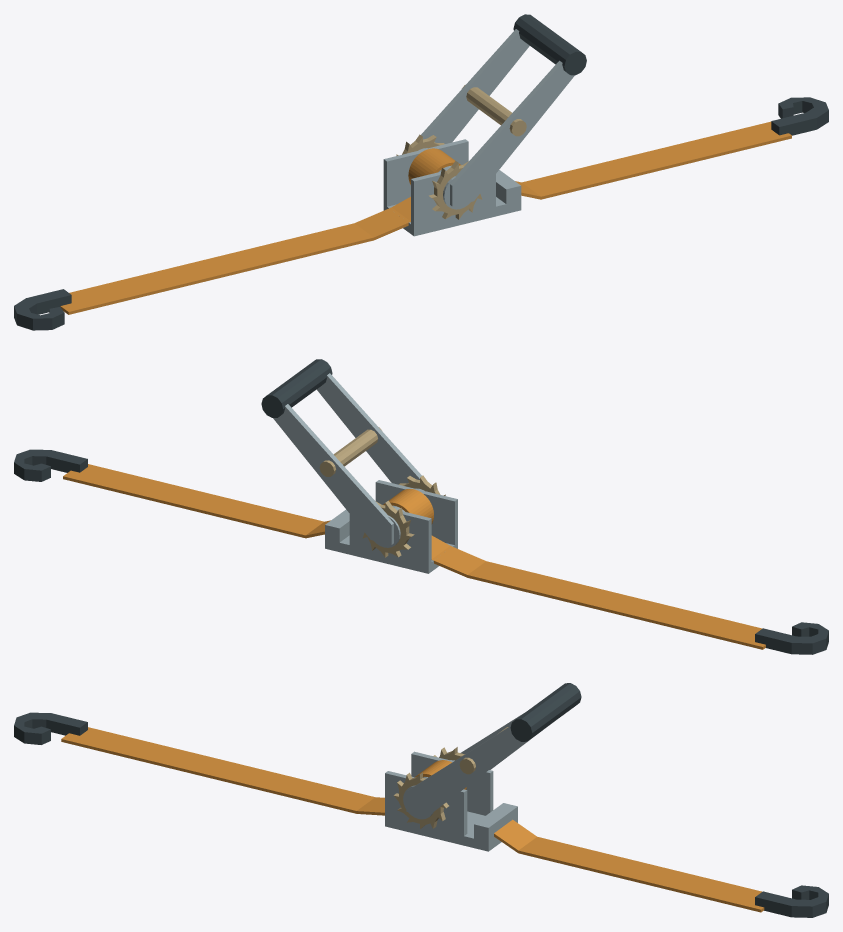
The picture shows the model from 3 angles, top to bottom: view 1: azimuth 30°, elevation 25°; view 2: azimuth 150°, elevation 25°; view 3: azimuth 330°, elevation 25°; orthographic projection. The views are drawn at different scales.
Parts seen in each view (by area): view 1: WholeContinuousLongStrapAndShallowSpiral, WholeOpposingShortStrap, WholeLowOpenBuckleChassis, WholeRaisedLeverCheekNear, WholeRaisedLeverCheekFar, WholeTopLeverGrip, WholeLeftBluntOpenHook, WholeRightBluntOpenHook, WholeFixedReleaseCrossbar, WholeSideToothDiskNear; view 2: WholeContinuousLongStrapAndShallowSpiral, WholeOpposingShortStrap, WholeLowOpenBuckleChassis, WholeRaisedLeverCheekFar, WholeRaisedLeverCheekNear, WholeTopLeverGrip, WholeLeftBluntOpenHook, WholeRightBluntOpenHook, WholeFixedReleaseCrossbar, WholeSideToothDiskFar; view 3: WholeContinuousLongStrapAndShallowSpiral, WholeOpposingShortStrap, WholeLowOpenBuckleChassis, WholeRaisedLeverCheekNear, WholeTopLeverGrip, WholeRightBluntOpenHook, WholeLeftBluntOpenHook, WholeSideToothDiskNear.
Boxes of the visible parts, x1,y1,x2,y2 form: WholeContinuousLongStrapAndShallowSpiral: (60, 148, 460, 314); WholeOpposingShortStrap: (515, 121, 791, 199); WholeLowOpenBuckleChassis: (383, 139, 521, 236); WholeRaisedLeverCheekNear: (450, 60, 574, 206); WholeRaisedLeverCheekFar: (421, 29, 529, 143); WholeTopLeverGrip: (513, 14, 586, 75); WholeLeftBluntOpenHook: (14, 289, 71, 330); WholeRightBluntOpenHook: (771, 97, 828, 135); WholeFixedReleaseCrossbar: (462, 85, 526, 136); WholeSideToothDiskNear: (429, 160, 482, 219); WholeContinuousLongStrapAndShallowSpiral: (383, 489, 765, 649); WholeOpposingShortStrap: (63, 464, 330, 538); WholeLowOpenBuckleChassis: (325, 480, 457, 573); WholeRaisedLeverCheekFar: (273, 404, 393, 544); WholeRaisedLeverCheekNear: (317, 373, 421, 484); WholeTopLeverGrip: (261, 359, 332, 417); WholeLeftBluntOpenHook: (755, 622, 828, 654); WholeRightBluntOpenHook: (14, 449, 87, 481); WholeFixedReleaseCrossbar: (319, 427, 381, 476); WholeSideToothDiskFar: (362, 500, 414, 557); WholeContinuousLongStrapAndShallowSpiral: (61, 727, 466, 815); WholeOpposingShortStrap: (494, 819, 764, 912); WholeLowOpenBuckleChassis: (385, 751, 517, 851); WholeRaisedLeverCheekNear: (406, 726, 525, 816); WholeTopLeverGrip: (510, 683, 581, 741); WholeRightBluntOpenHook: (755, 885, 828, 917); WholeLeftBluntOpenHook: (14, 712, 87, 744); WholeSideToothDiskNear: (393, 772, 448, 828).
Size of the model in its own units: 0.876 by 0.158 by 0.094.
